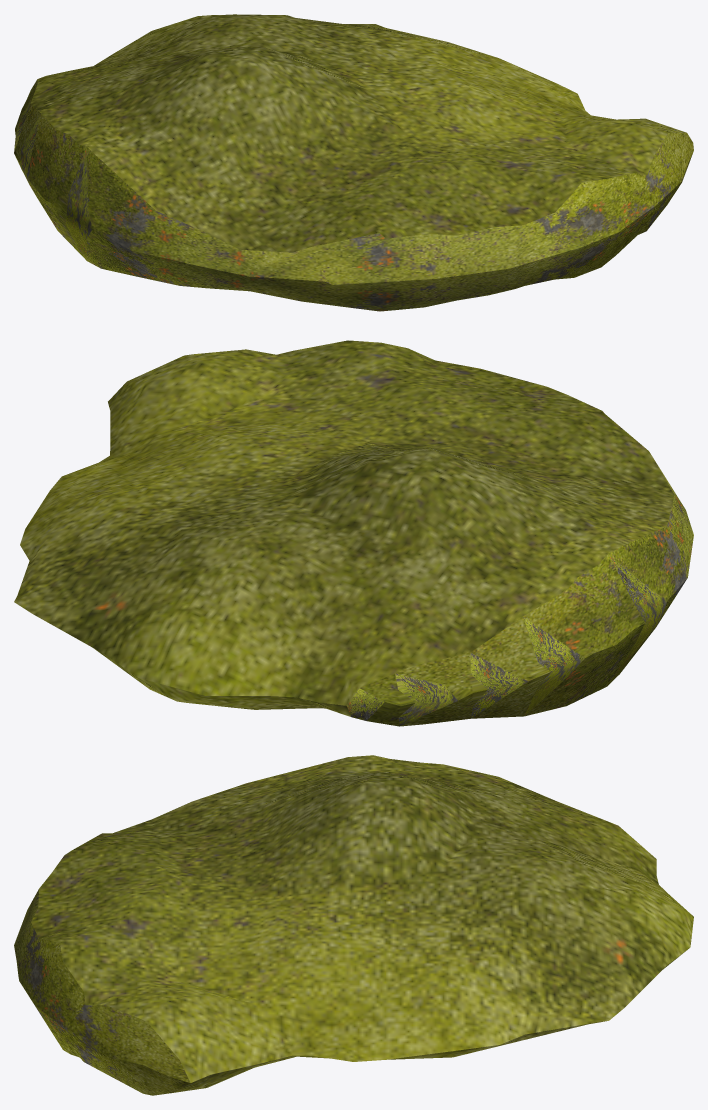
Rendered from SM_MossClump_05.fbx.
3 renders of one model, top to bottom at view 1: azimuth 30°, elevation 25°; view 2: azimuth 150°, elevation 25°; view 3: azimuth 270°, elevation 25°, orthographic. The views are drawn at different scales.
Parts seen in each view (by area): view 1: SM_MossClump_05_LOD0; view 2: SM_MossClump_05_LOD0; view 3: SM_MossClump_05_LOD0.
Boxes of the visible parts, x1,y1,x2,y2 form: SM_MossClump_05_LOD0: (14,14,693,311); SM_MossClump_05_LOD0: (14,340,693,726); SM_MossClump_05_LOD0: (14,755,693,1095).
Bounding box in the file's own units: 16.87 × 17.31 × 6.24.
